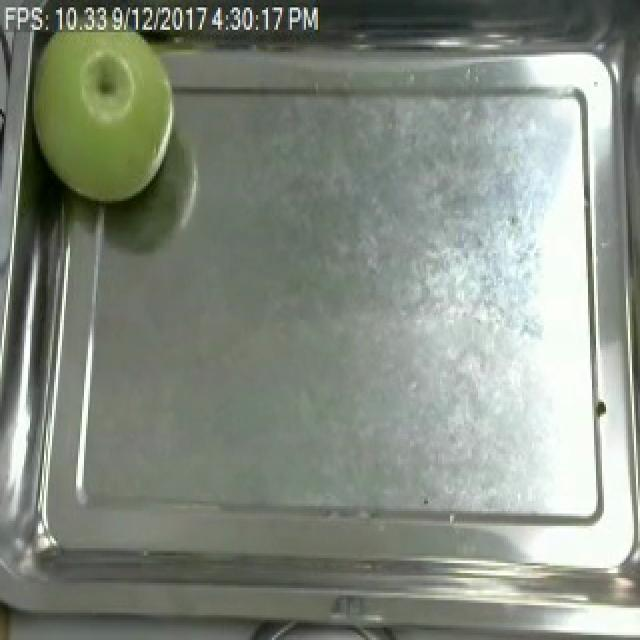50-_ripeness: (21, 8, 178, 200)
